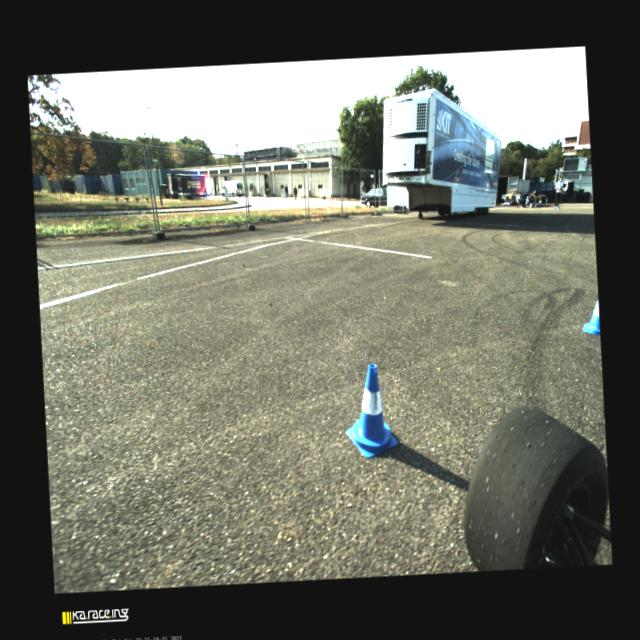blue_cone: (343, 362, 398, 459), (581, 300, 600, 334)
